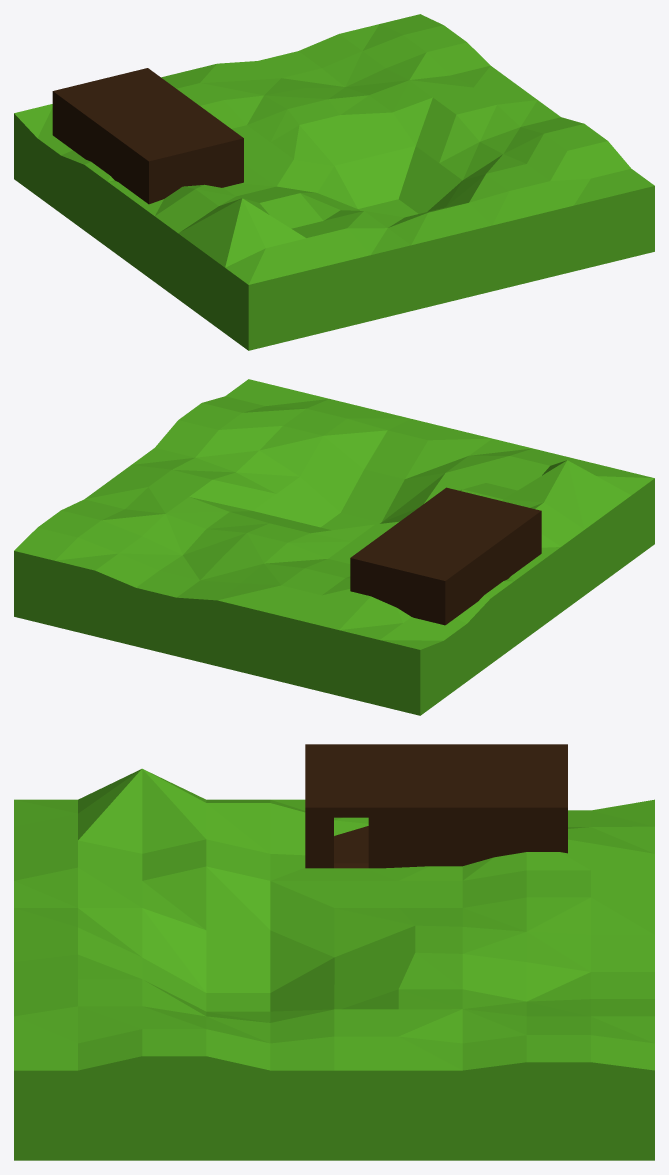
Rendered from terrain-building.dae.
3 views of the same model, one above another, from view 1: azimuth 30°, elevation 25°; view 2: azimuth 150°, elevation 25°; view 3: azimuth 270°, elevation 25° (orthographic). The views are drawn at different scales.
Visible parts, largest first — view 1: SketchUp (×2); view 2: SketchUp (×2); view 3: SketchUp (×2).
Boxes of the visible parts, x1,y1,x2,y2 form: SketchUp (×2): [14, 14, 654, 350]; SketchUp (×2): [14, 379, 654, 715]; SketchUp (×2): [14, 744, 654, 1160].
Size of the model in its own units: 17.74 by 17.74 by 4.58.
